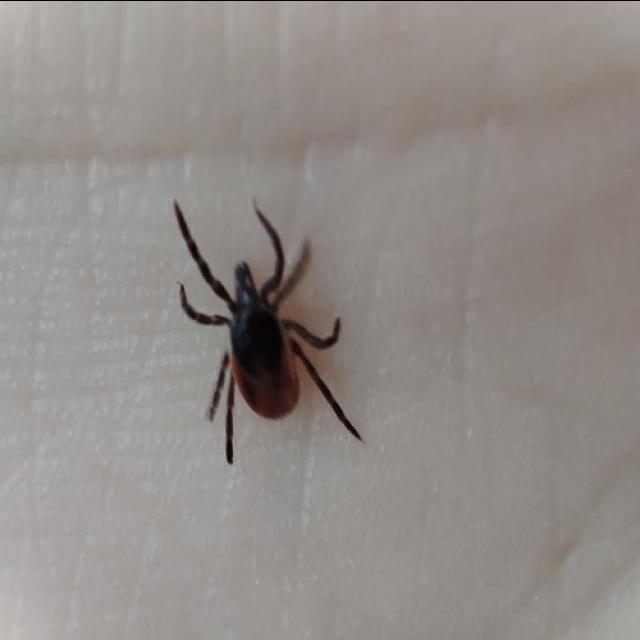Ixodes Ricinus-F: (174, 200, 364, 461)
